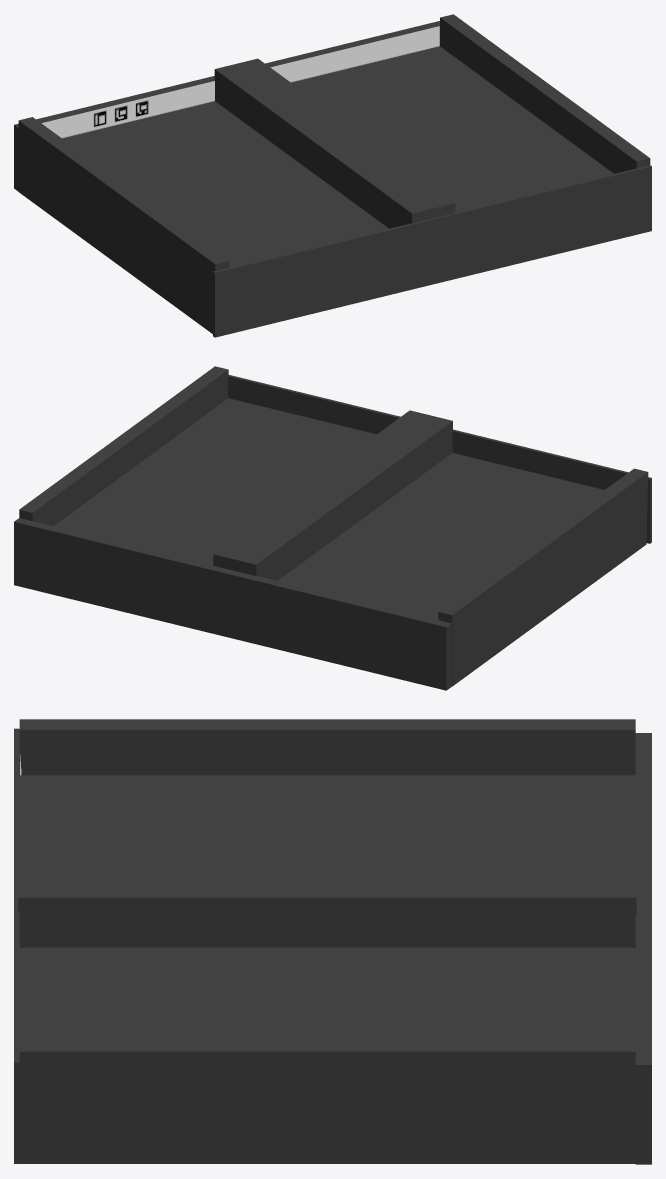
Rendered from nasa_minimal_aruco.dae.
3 renders of one model, top to bottom at view 1: azimuth 30°, elevation 25°; view 2: azimuth 150°, elevation 25°; view 3: azimuth 270°, elevation 25°, orthographic. The views are drawn at different scales.
Parts seen in each view (by area): view 1: group_0, Material_005; view 2: group_0; view 3: group_0.
Boxes of the visible parts, box(x1,y1,x2,y2) form: group_0: box(14, 14, 651, 337); Material_005: box(92, 98, 150, 129); group_0: box(14, 366, 651, 690); group_0: box(14, 719, 651, 1164).
Bounding box in the file's own units: 9.48 × 7.65 × 1.56.
Materials: 2 (2 with a texture image).
